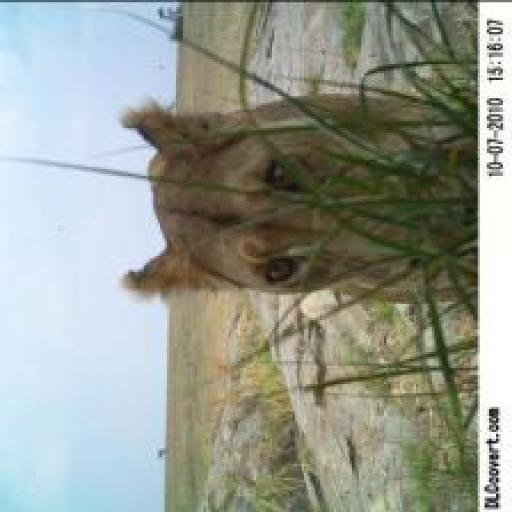lion: (96, 73, 485, 308)
